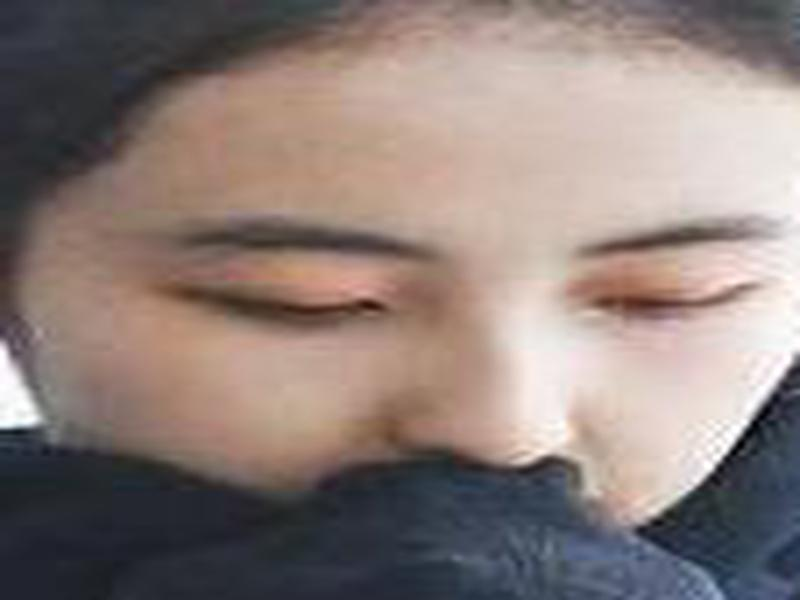without_mask: (1, 15, 798, 600)
